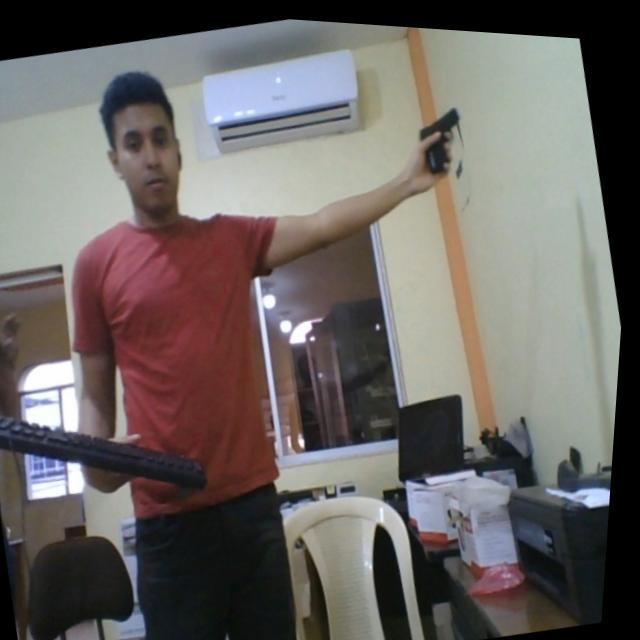weapon: (402, 98, 479, 184)
